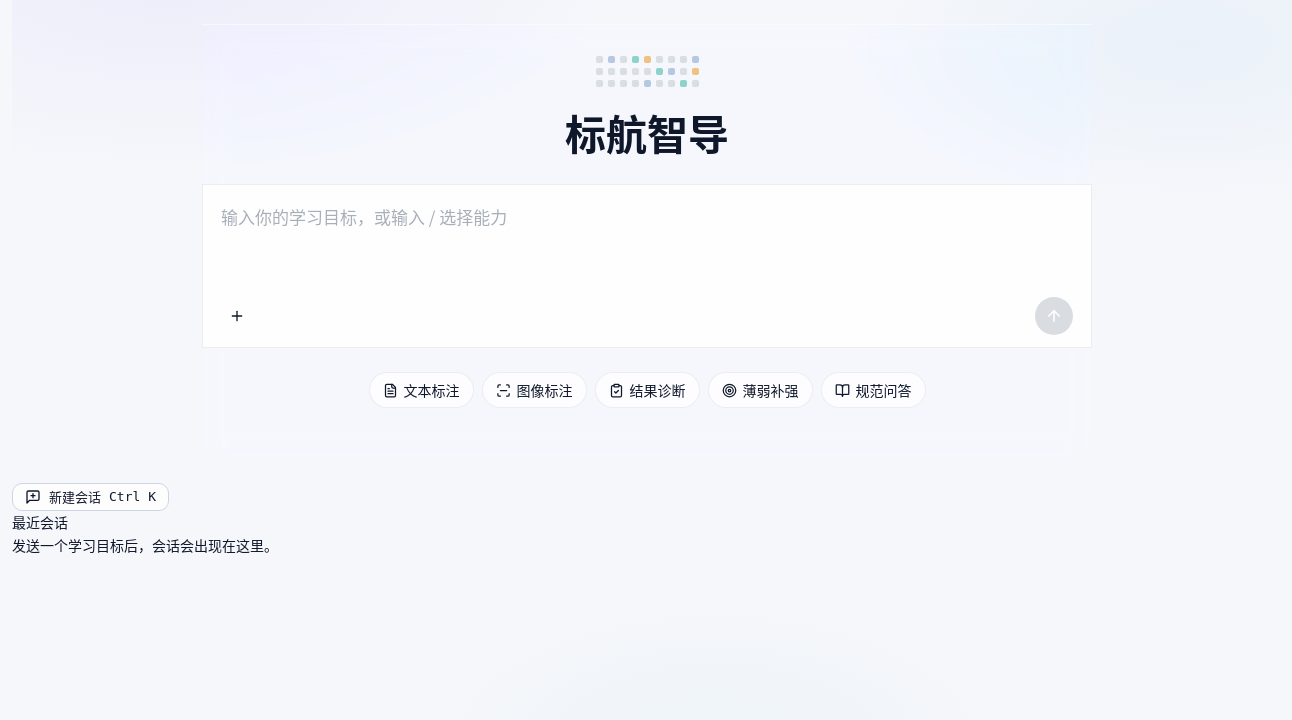
Test: 对话页 · 欢迎态 › 文本快捷入口只预填并聚焦 Composer，不会在用户确认前启动运行
Click the button "文本标注".
click(421, 390)  # box [368,372,474,408]
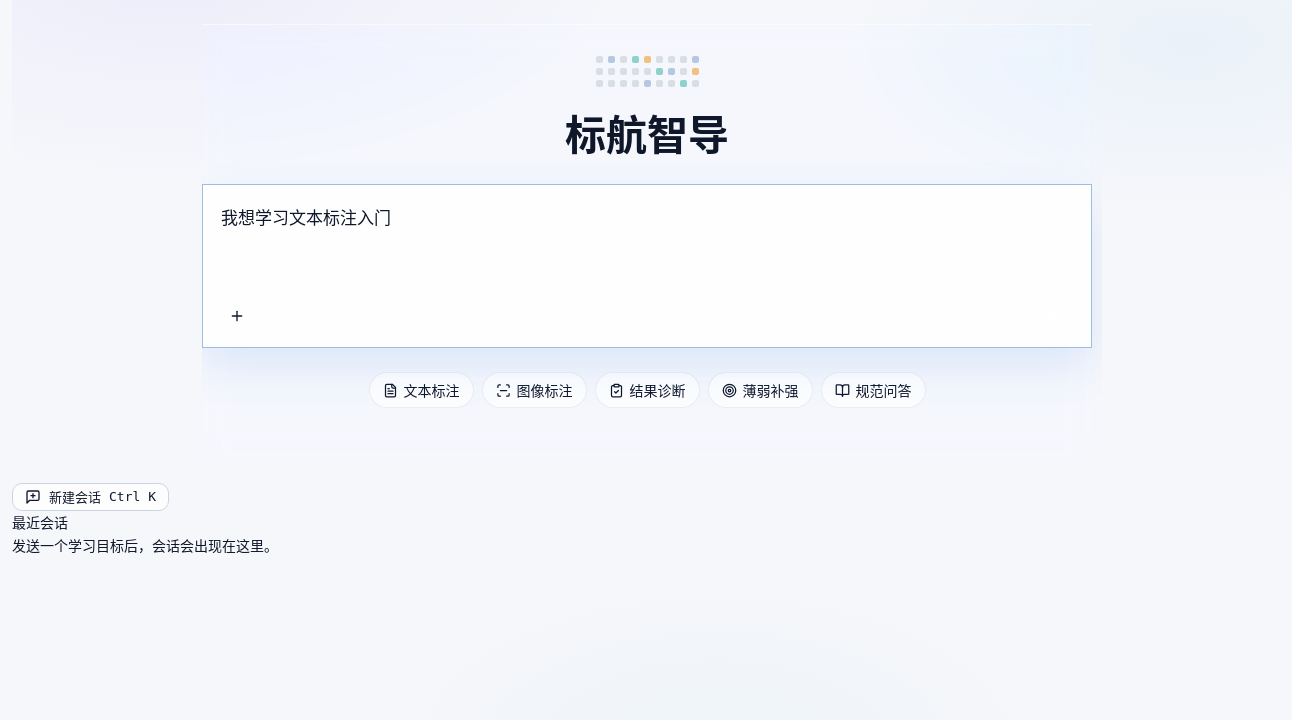
Expected: the text box named "对话输入" holds "我想学习文本标注入门", [221,203,1073,335]
